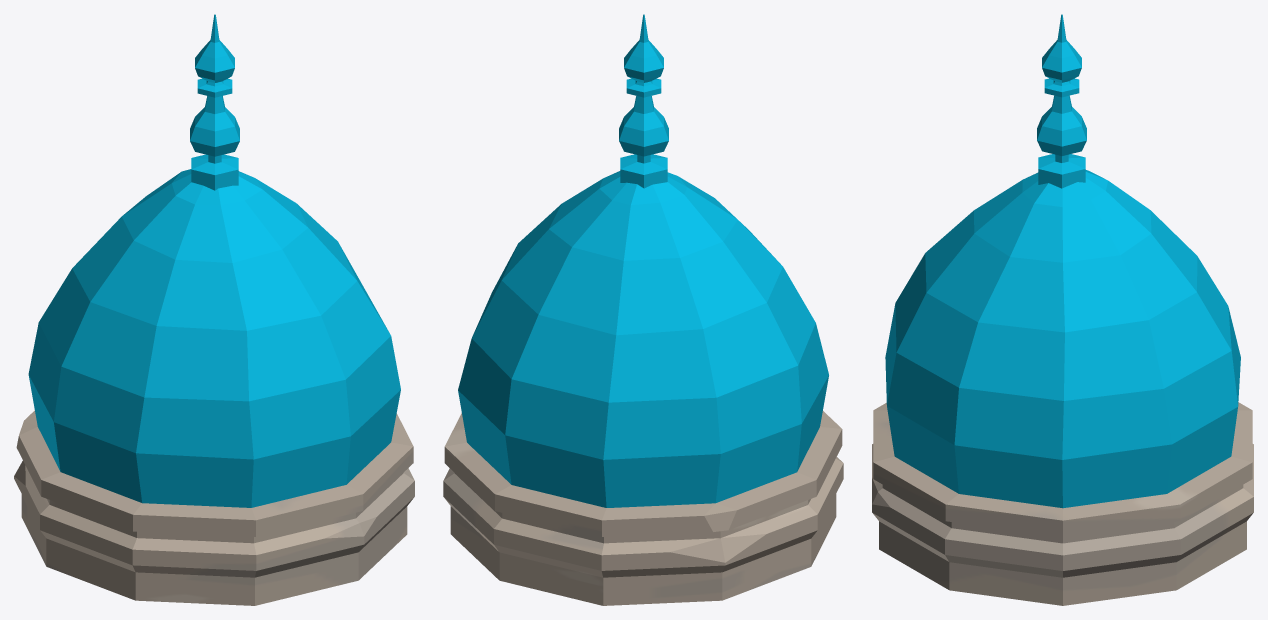
The model's file is SM_Bld_Roof_Cap_03.fbx.
3 views of the same model, side by side, from view 1: azimuth 30°, elevation 25°; view 2: azimuth 150°, elevation 25°; view 3: azimuth 270°, elevation 25° (orthographic).
Visible parts, largest first — view 1: SM_Bld_Roof_Cap_03; view 2: SM_Bld_Roof_Cap_03; view 3: SM_Bld_Roof_Cap_03.
Part boxes in pixels (x1,y1,x2,y2): SM_Bld_Roof_Cap_03: (14, 14, 414, 605); SM_Bld_Roof_Cap_03: (443, 14, 843, 605); SM_Bld_Roof_Cap_03: (872, 14, 1253, 605).
Bounding box in the file's own units: 254 × 357 × 242.
